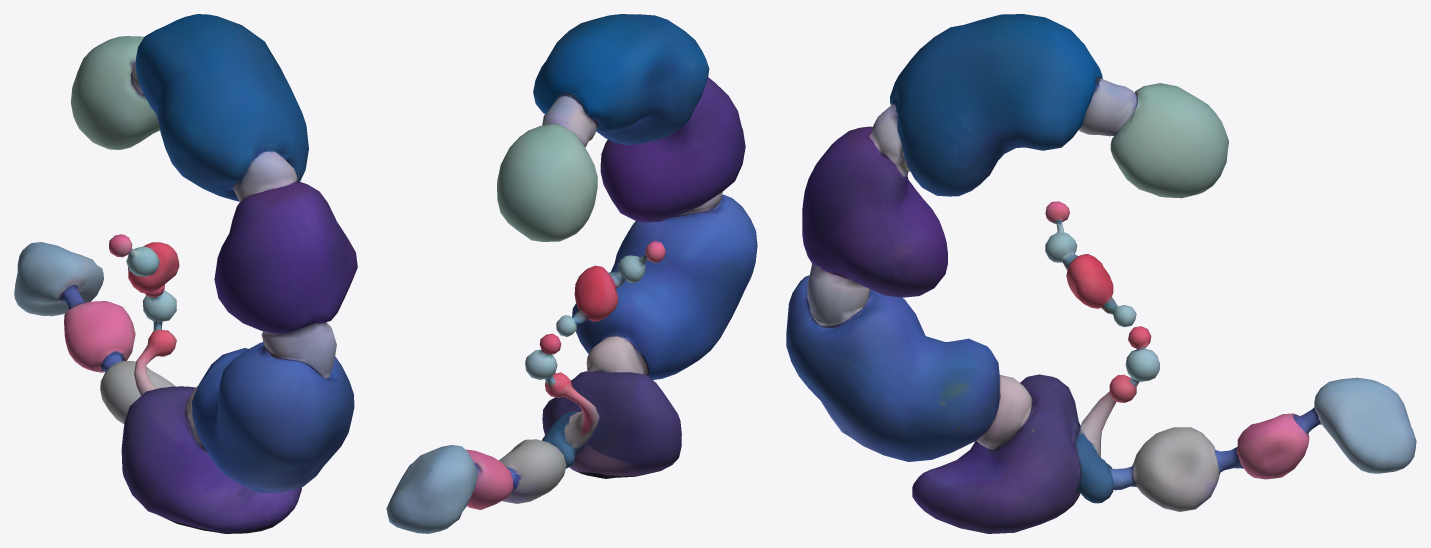
3 views of the same model, side by side, from view 1: azimuth 30°, elevation 25°; view 2: azimuth 150°, elevation 25°; view 3: azimuth 270°, elevation 25° (orthographic). The views are drawn at different scales.
Parts seen in each view (by area): view 1: tripo_node_f071dbe2-2665-425b-85e9-4e659d3137a2; view 2: tripo_node_f071dbe2-2665-425b-85e9-4e659d3137a2; view 3: tripo_node_f071dbe2-2665-425b-85e9-4e659d3137a2.
Boxes of the visible parts, left/top/right/bottom form: tripo_node_f071dbe2-2665-425b-85e9-4e659d3137a2: left=14, top=14, right=357, bottom=533; tripo_node_f071dbe2-2665-425b-85e9-4e659d3137a2: left=386, top=14, right=757, bottom=533; tripo_node_f071dbe2-2665-425b-85e9-4e659d3137a2: left=786, top=14, right=1416, bottom=533.
Bounding box in the file's own units: 0.2857 × 0.8611 × 1.
1 material, 1 textured.
